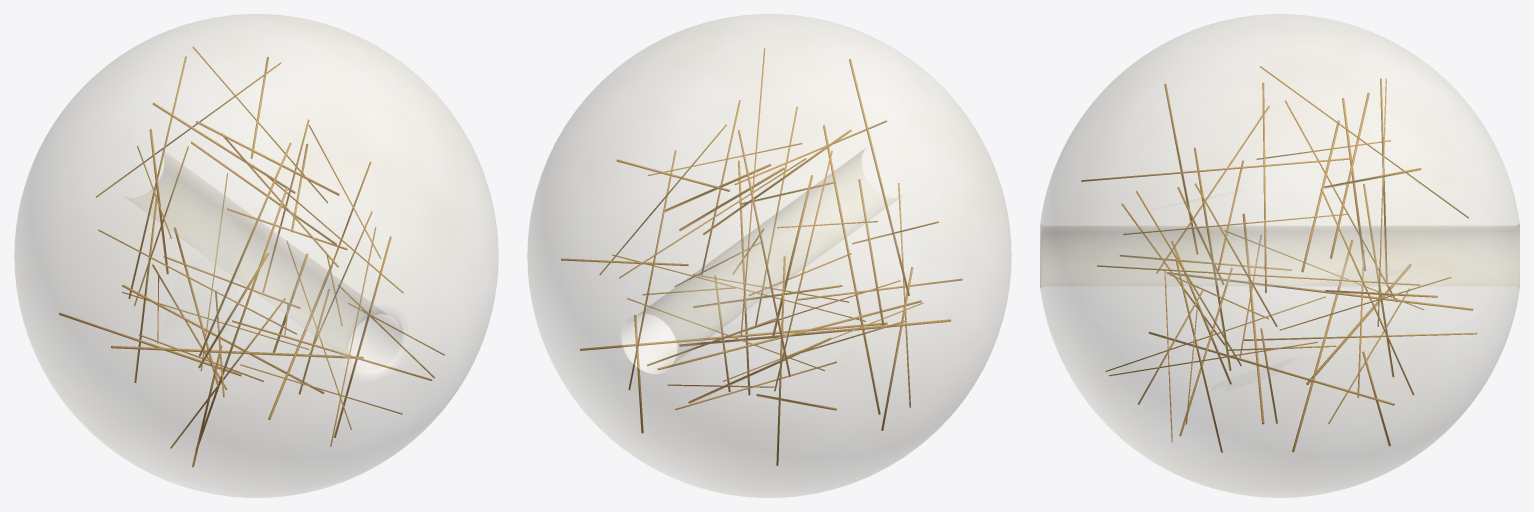
The model's file is golden-rutilated-quartz.glb.
3 views of the same model, side by side, from view 1: azimuth 30°, elevation 25°; view 2: azimuth 150°, elevation 25°; view 3: azimuth 270°, elevation 25° (orthographic).
Visible parts, largest first — view 1: golden-rutilated-quartz.001, golden-rutilated-quartz_WEB_needles_48; view 2: golden-rutilated-quartz.001, golden-rutilated-quartz_WEB_needles_48; view 3: golden-rutilated-quartz.001, golden-rutilated-quartz_WEB_needles_48.
Boxes of the visible parts, x1,y1,x2,y2 form: golden-rutilated-quartz.001: (14,14,498,497); golden-rutilated-quartz_WEB_needles_48: (59,46,444,467); golden-rutilated-quartz.001: (527,14,1011,497); golden-rutilated-quartz_WEB_needles_48: (561,48,962,465); golden-rutilated-quartz.001: (1040,14,1519,497); golden-rutilated-quartz_WEB_needles_48: (1081,66,1477,452).
Size of the model in its own units: 0.008 by 0.008 by 0.00793.
Materials: 3 (1 with a texture image).
